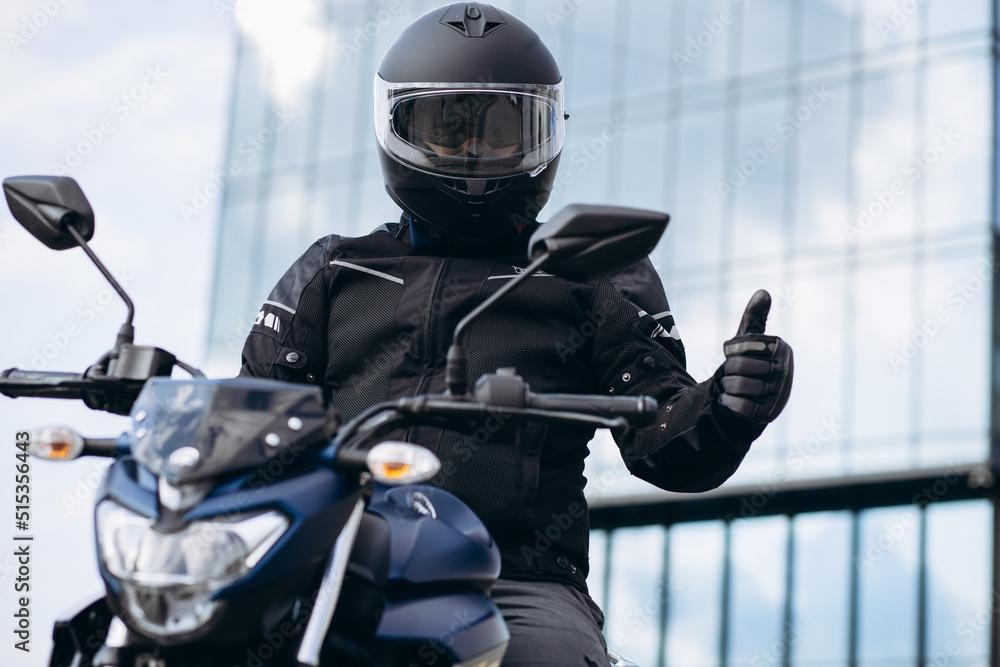helmet: (373, 0, 570, 246)
